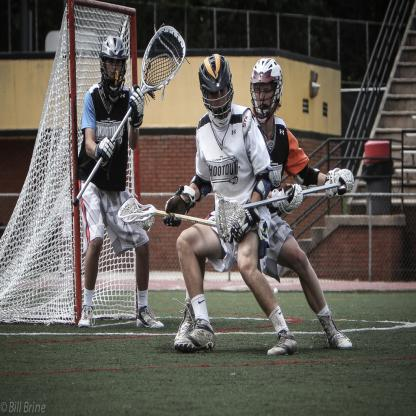Helmet: (198, 51, 235, 127), (250, 58, 286, 121), (98, 34, 128, 104)
